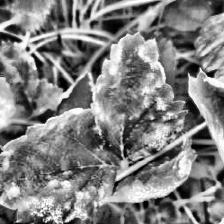Powdery Mildew Leaf: (0, 106, 120, 224), (88, 31, 190, 162), (104, 134, 198, 204), (187, 67, 224, 211), (0, 69, 18, 148)
